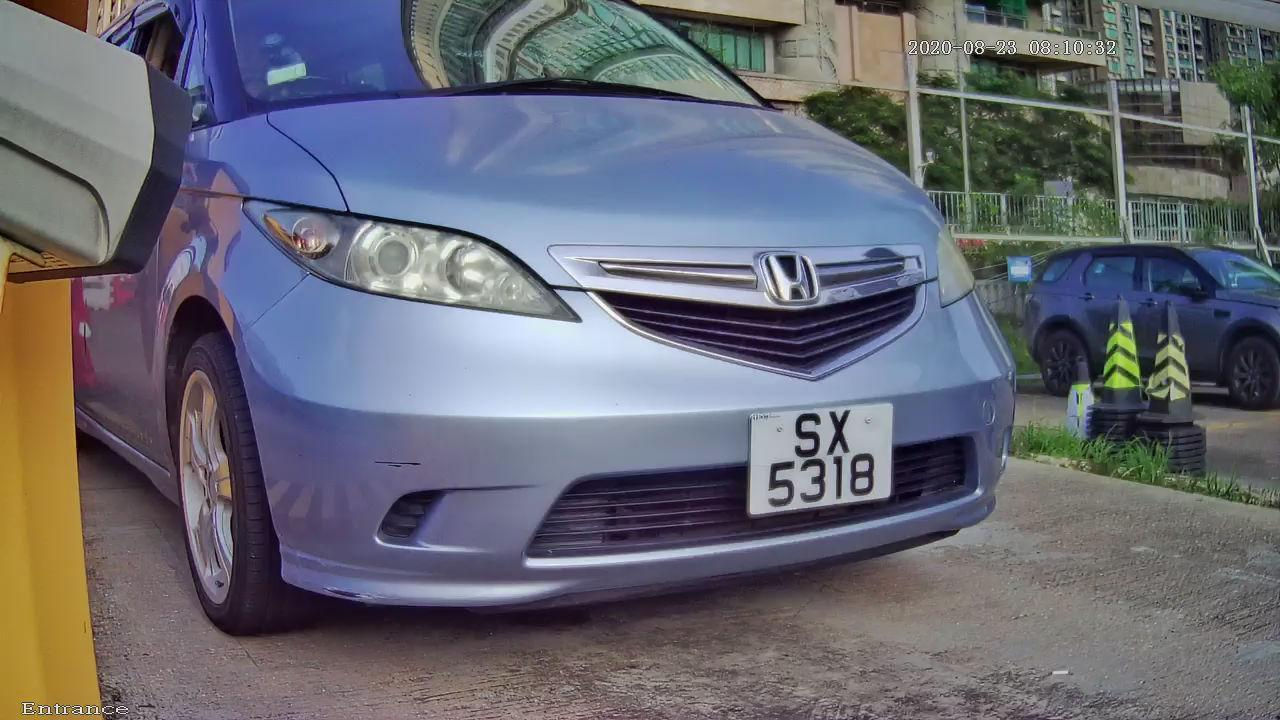Car: (35, 1, 1115, 650)
License Plate: (726, 386, 909, 534)
